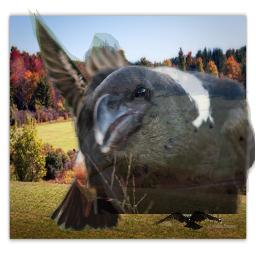Crow: (75, 64, 255, 214), (154, 210, 222, 233)
Swallow: (27, 8, 161, 231)
